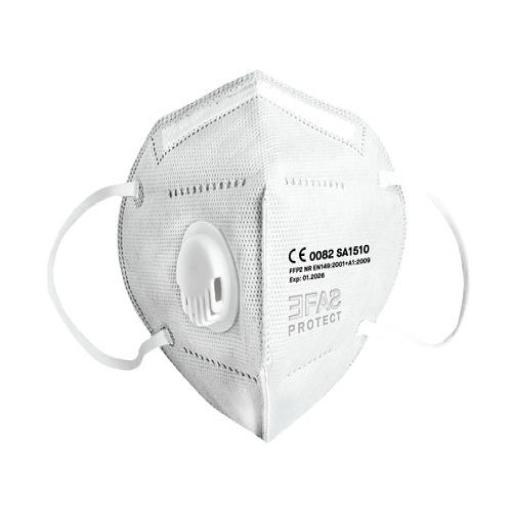mask: (124, 78, 416, 442)
